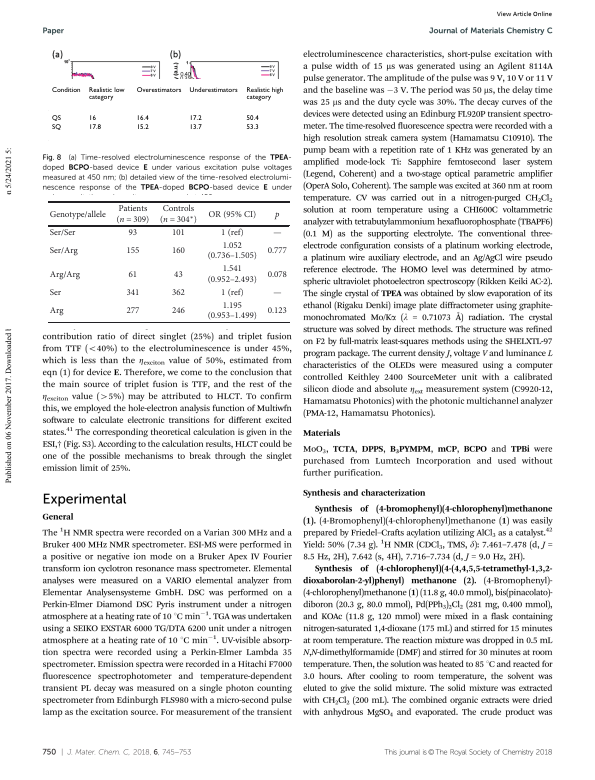borderless: (48, 200, 290, 323), (46, 84, 286, 142)
cell: (206, 241, 257, 262), (206, 264, 257, 285), (206, 301, 257, 322), (159, 204, 198, 225), (115, 204, 150, 225), (48, 209, 106, 220), (245, 86, 284, 102), (87, 86, 125, 102), (207, 209, 257, 220), (188, 86, 238, 95), (135, 86, 182, 95), (48, 269, 81, 280), (48, 246, 78, 256), (48, 228, 76, 238), (51, 86, 81, 95), (220, 228, 244, 238), (220, 288, 244, 298), (266, 269, 287, 280), (266, 306, 287, 317), (266, 246, 287, 256), (48, 306, 64, 317), (125, 306, 140, 317), (171, 306, 186, 317), (171, 228, 186, 238), (125, 246, 140, 256), (171, 246, 186, 256), (125, 288, 140, 298), (171, 288, 186, 298), (48, 288, 62, 298), (135, 114, 149, 123), (188, 114, 202, 123), (245, 114, 259, 123), (87, 123, 101, 132), (135, 123, 149, 132), (188, 123, 202, 132), (245, 123, 259, 132), (127, 269, 138, 280), (127, 228, 138, 238), (173, 269, 183, 280), (51, 114, 61, 123), (51, 123, 61, 132), (87, 114, 96, 123), (274, 211, 280, 220), (272, 232, 282, 236), (272, 292, 282, 296)
